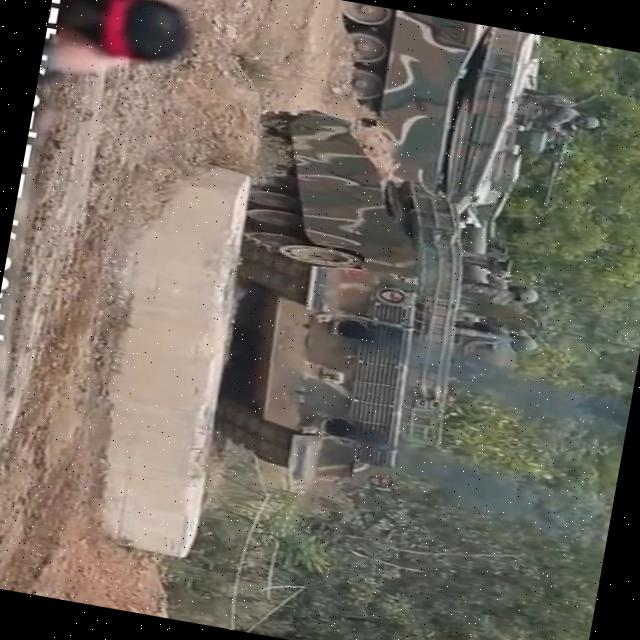korea tank: (196, 96, 577, 518)
